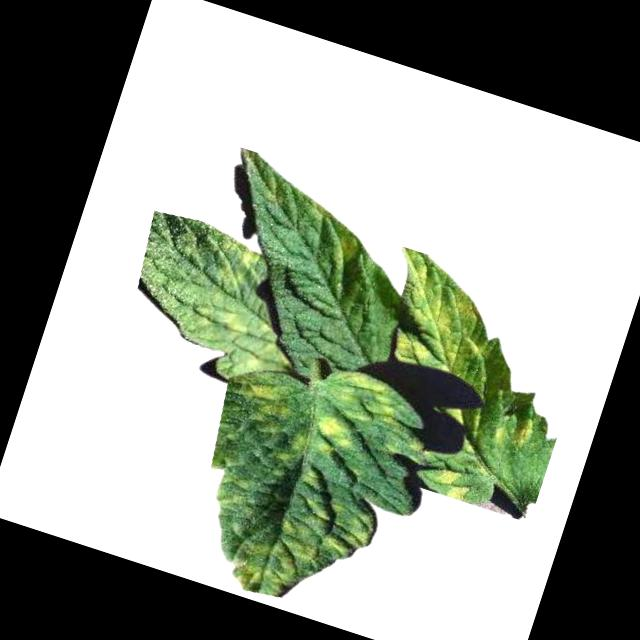Leaf_Mold: (225, 451, 389, 621), (370, 248, 521, 392), (165, 288, 299, 388), (317, 362, 410, 437), (199, 231, 265, 298), (286, 407, 356, 468), (241, 372, 298, 427), (487, 408, 538, 458), (319, 222, 362, 273), (427, 463, 475, 504), (298, 195, 332, 224)
